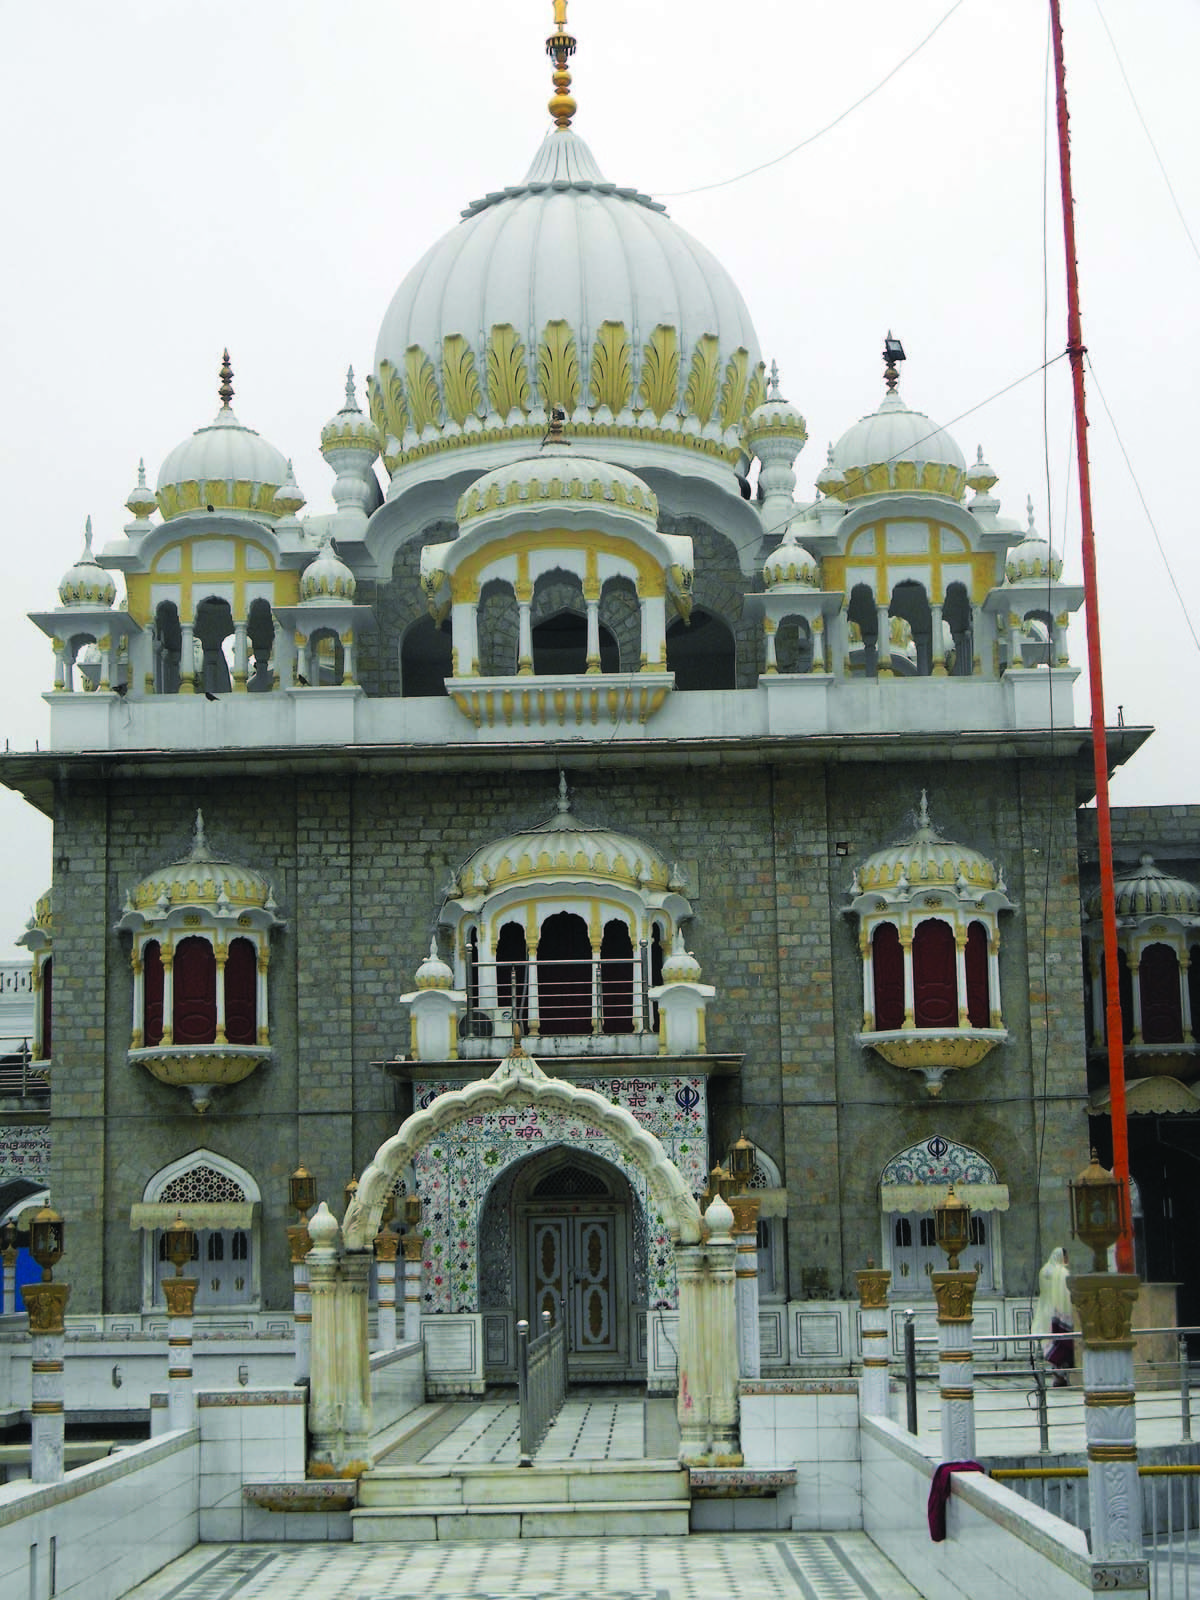Gurdwara: (62, 13, 1092, 1499)
